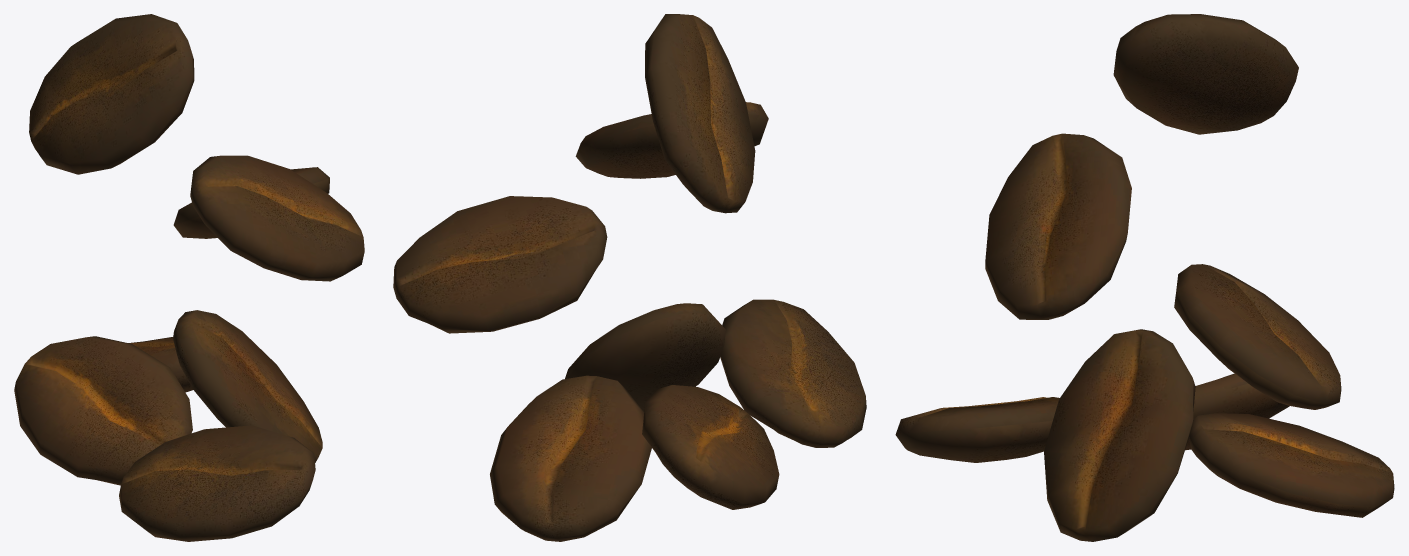
File: 01-cafegrain-model.glb
The picture shows the model from 3 angles, left to right: view 1: azimuth 30°, elevation 25°; view 2: azimuth 150°, elevation 25°; view 3: azimuth 270°, elevation 25°; orthographic projection. The views are drawn at different scales.
Parts seen in each view (by area): view 1: 01-cafegrain-model; view 2: 01-cafegrain-model; view 3: 01-cafegrain-model.
Boxes of the visible parts, bbox=[...] form: 01-cafegrain-model: bbox=[14, 14, 364, 541]; 01-cafegrain-model: bbox=[393, 14, 866, 541]; 01-cafegrain-model: bbox=[895, 14, 1394, 541].
Bounding box in the file's own units: 1.87 × 2.46 × 2.36.
1 material, 1 textured.
